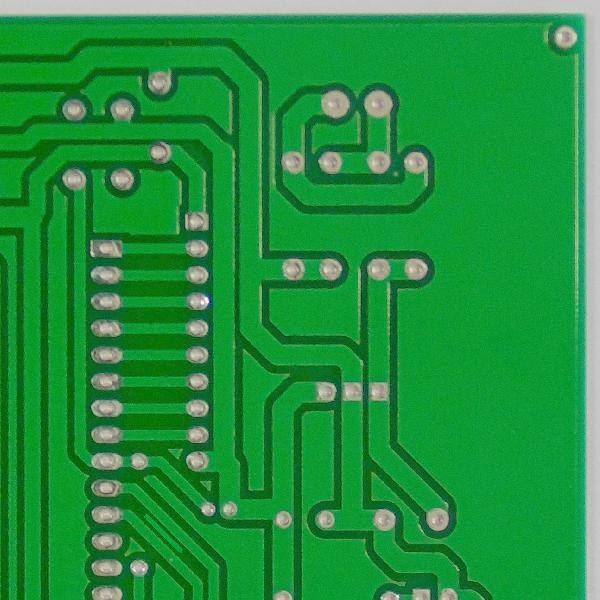spurious_copper: (138, 511, 185, 557)
